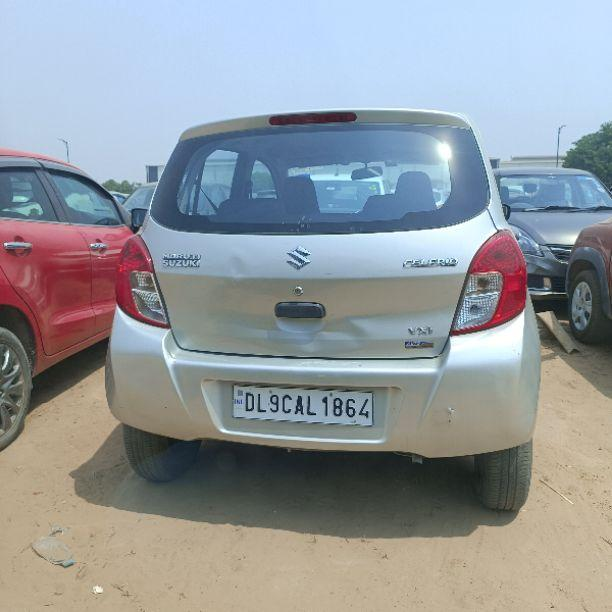license_plate: (230, 382, 374, 427)
